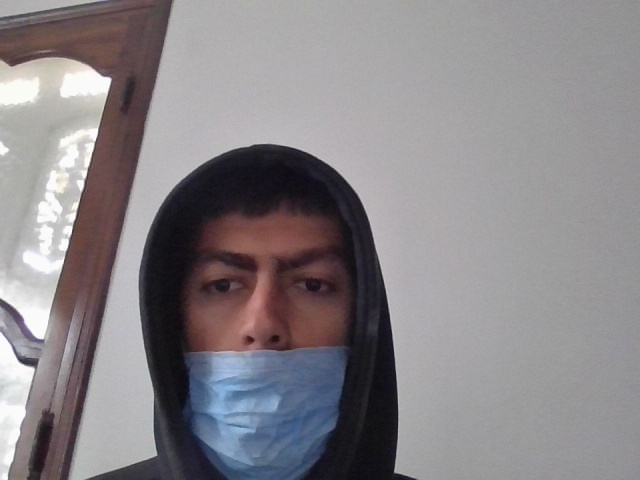mask_weared_incorrect: (174, 193, 362, 479)
